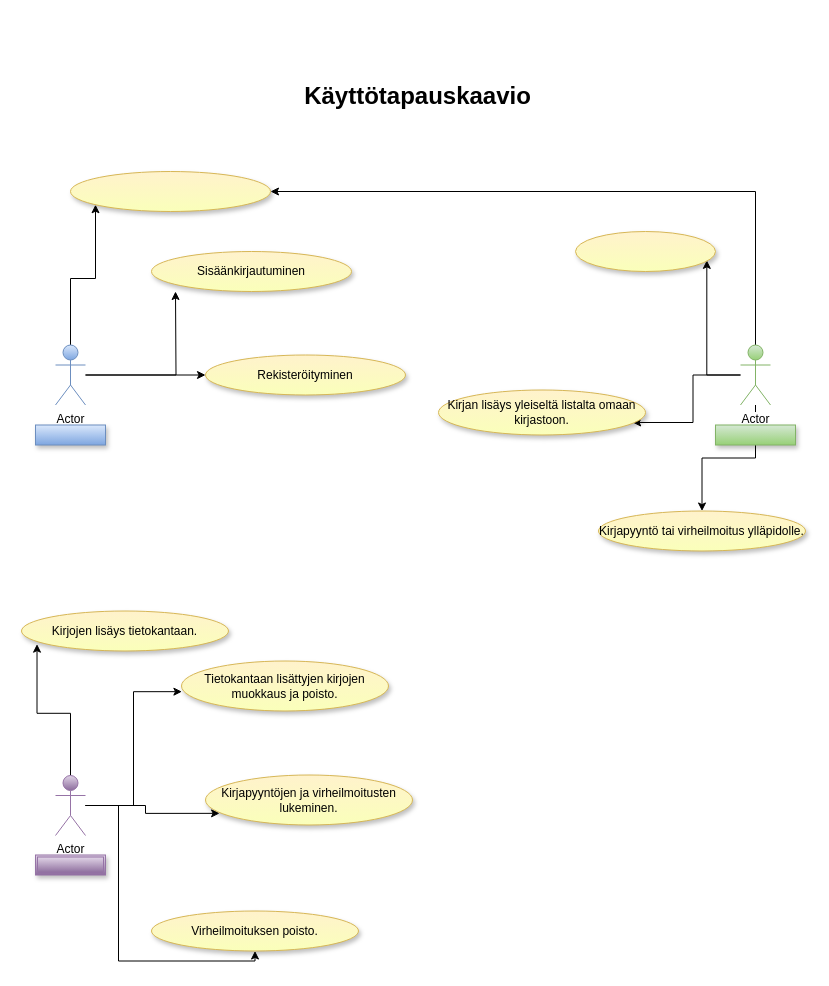
The diagram is 829 pixels wide and 986 high, and some of its shapes have lost their labels. The shapes that lost their labels are listed below. From the top down, each one's centre as x and y in pixels, then its label:
At (x=171, y=192): "Tietokannan kirjojen tarkastelu".
At (x=646, y=252): "Kirjan poisto omasta kirjastosta".
At (x=71, y=436): "Jokamies".
At (x=756, y=436): "Kirjautunut".
At (x=71, y=866): "Ylläpito".
